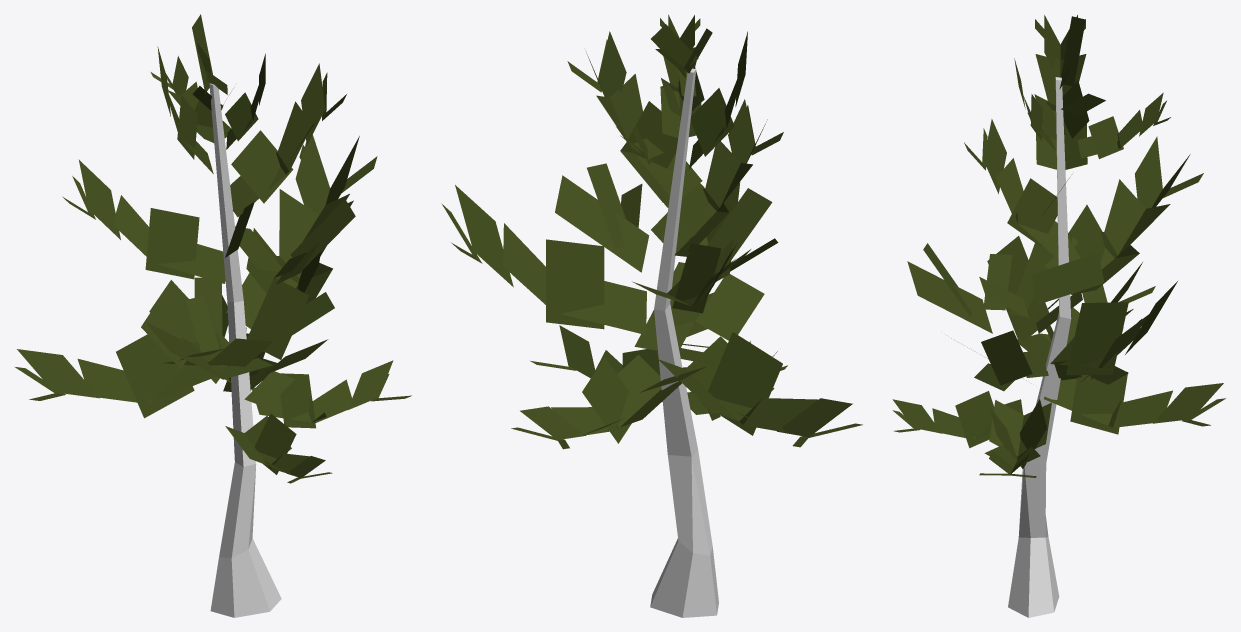
The model's file is tree-pine-sapling-a.gltf.
3 renders of one model, left to right at view 1: azimuth 30°, elevation 25°; view 2: azimuth 150°, elevation 25°; view 3: azimuth 270°, elevation 25°, orthographic. The views are drawn at different scales.
Parts seen in each view (by area): view 1: tree-pine-sapling-a; view 2: tree-pine-sapling-a; view 3: tree-pine-sapling-a.
Part boxes in pixels (x1,y1,x2,y2): tree-pine-sapling-a: (15, 14, 411, 617); tree-pine-sapling-a: (441, 14, 862, 617); tree-pine-sapling-a: (892, 15, 1225, 617).
Size of the model in its own units: 0.0103 by 0.0152 by 0.00804.
